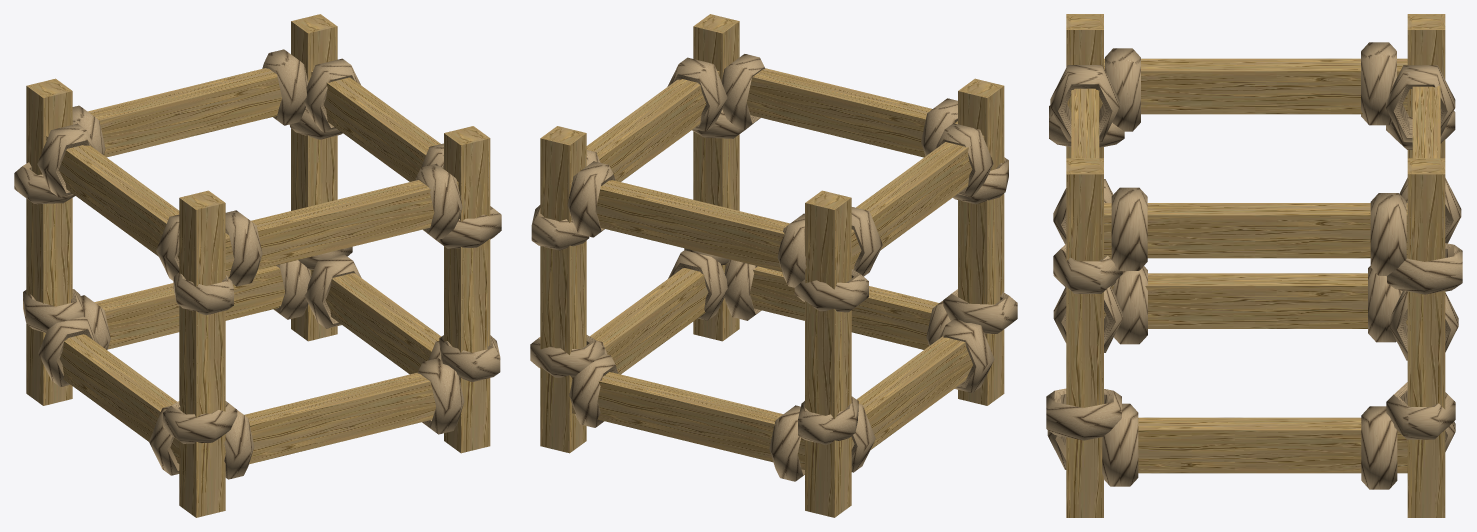
Rendered from pilier.dae.
3 renders of one model, left to right at view 1: azimuth 30°, elevation 25°; view 2: azimuth 150°, elevation 25°; view 3: azimuth 270°, elevation 25°, orthographic. The views are drawn at different scales.
Parts seen in each view (by area): view 1: Poteaux, corde (×21); view 2: Poteaux, corde (×21); view 3: Poteaux, corde (×20).
Boxes of the visible parts, <box> form: Poteaux: <box>26,14,490,517</box>; corde (×21): <box>14,49,501,479</box>; Poteaux: <box>540,14,1004,517</box>; corde (×21): <box>530,54,1017,481</box>; Poteaux: <box>1066,14,1445,517</box>; corde (×20): <box>1046,42,1462,489</box>.
Size of the model in its own units: 1.1 by 1 by 1.1.
